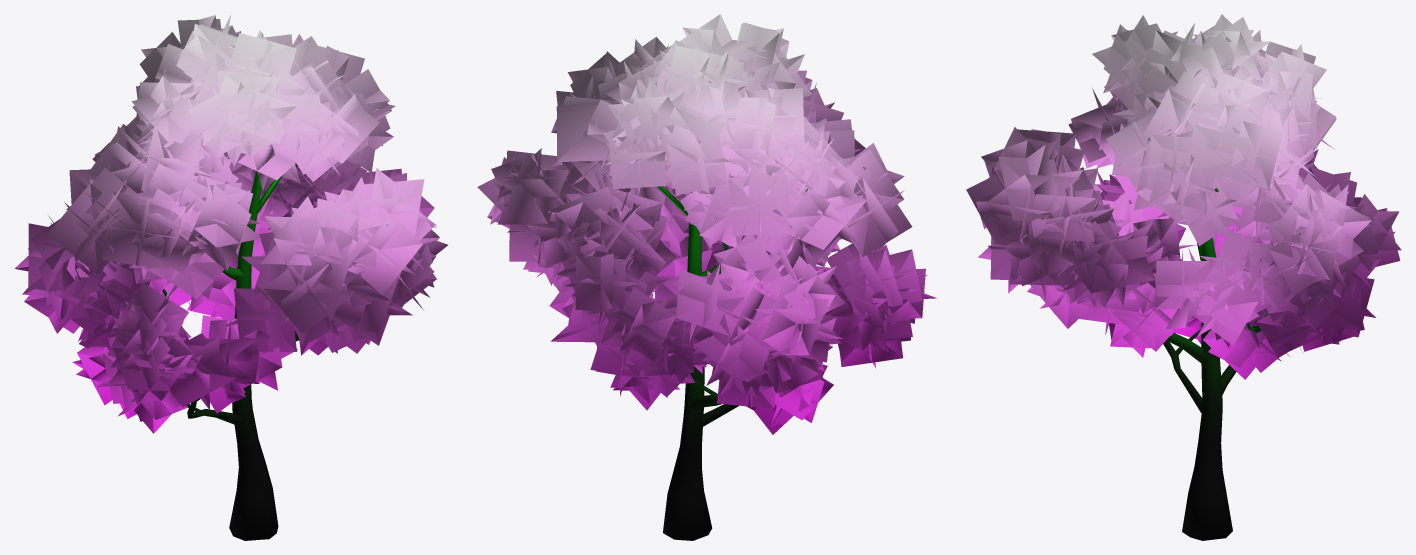
The model's file is TSI_Springleaf_Tree_04A.fbx.
3 renders of one model, left to right at view 1: azimuth 30°, elevation 25°; view 2: azimuth 150°, elevation 25°; view 3: azimuth 270°, elevation 25°, orthographic.
Visible parts, largest first — view 1: TSI_Springleaf_Tree_04A_LOD0; view 2: TSI_Springleaf_Tree_04A_LOD0; view 3: TSI_Springleaf_Tree_04A_LOD0.
Part boxes in pixels (x1=…): TSI_Springleaf_Tree_04A_LOD0: x1=14, y1=14, x2=447, y2=540; TSI_Springleaf_Tree_04A_LOD0: x1=477, y1=14, x2=936, y2=540; TSI_Springleaf_Tree_04A_LOD0: x1=966, y1=14, x2=1401, y2=540.
Size of what is drawn, in the model's own units: 972 by 1241 by 983.
